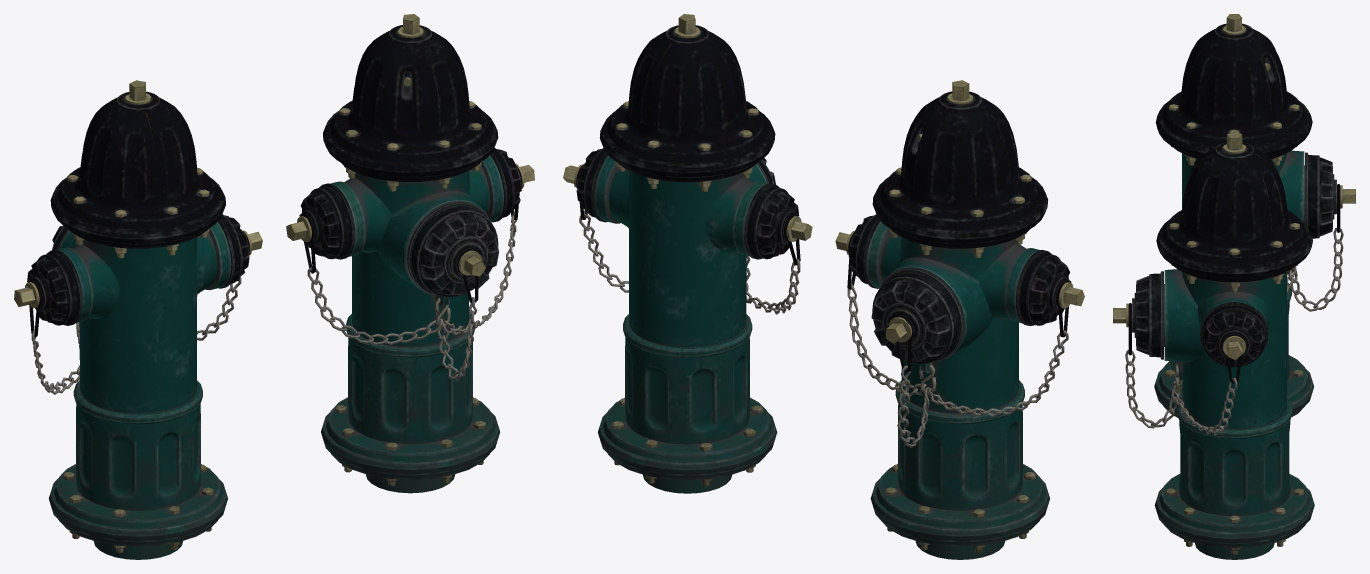
Rendered from american_fire_hydrant.glb.
3 renders of one model, left to right at view 1: azimuth 30°, elevation 25°; view 2: azimuth 150°, elevation 25°; view 3: azimuth 270°, elevation 25°, orthographic. The views are drawn at different scales.
Parts seen in each view (by area): view 1: cap_low.001, cap_low, body_low, graund_low, graund_low.001, body_low.001, bolts_low.001, cepi_low.001, bolts_low, cepi_low, creplenia_cepi_low.001; view 2: cap_low, cap_low.001, body_low.001, graund_low.001, graund_low, body_low, bolts_low, cepi_low, bolts_low.001, cepi_low.001, creplenia_cepi_low; view 3: cap_low.001, graund_low.001, cap_low, body_low.001, bolts_low.001, graund_low, body_low, cepi_low.001, bolts_low, cepi_low, creplenia_cepi_low.001.
Part boxes in pixels (x1,y1,x2,y2): cap_low.001: (299, 25, 521, 297); cap_low: (27, 91, 249, 325); body_low: (57, 222, 231, 413); graund_low: (48, 380, 227, 559); graund_low.001: (321, 313, 499, 493); body_low.001: (330, 155, 503, 347); bolts_low.001: (286, 14, 534, 486); cepi_low.001: (307, 213, 516, 380); bolts_low: (14, 80, 262, 553); cepi_low: (31, 277, 241, 394); creplenia_cepi_low.001: (301, 167, 522, 327); cap_low: (849, 91, 1071, 363); cap_low.001: (576, 25, 799, 259); body_low.001: (595, 156, 768, 347); graund_low.001: (598, 314, 777, 493); graund_low: (870, 380, 1049, 559); body_low: (866, 222, 1040, 413); bolts_low: (835, 80, 1084, 553); cepi_low: (847, 283, 1068, 447); bolts_low.001: (563, 14, 812, 486); cepi_low.001: (579, 213, 800, 314); creplenia_cepi_low: (847, 232, 1068, 393); cap_low.001: (1132, 142, 1312, 367); graund_low.001: (1154, 399, 1314, 559); cap_low: (1155, 23, 1336, 238); body_low.001: (1164, 269, 1286, 429); bolts_low.001: (1113, 132, 1303, 554); graund_low: (1154, 283, 1314, 417); body_low: (1182, 150, 1304, 222); cepi_low.001: (1125, 350, 1237, 435); bolts_low: (1165, 14, 1355, 376); cepi_low: (1287, 227, 1343, 311); creplenia_cepi_low.001: (1128, 303, 1246, 391).
Size of the model in its own units: 206 by 176 by 94.75.
Materials: 1 (1 with a texture image).
